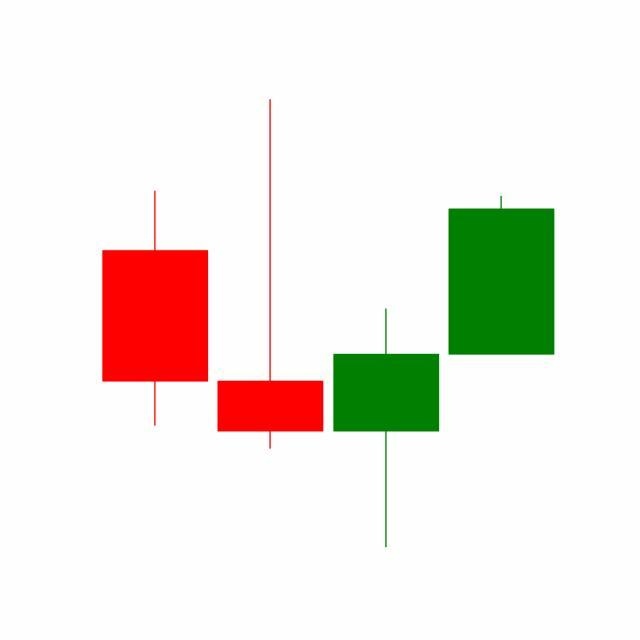Dragonfly Doji: (329, 306, 445, 551)
